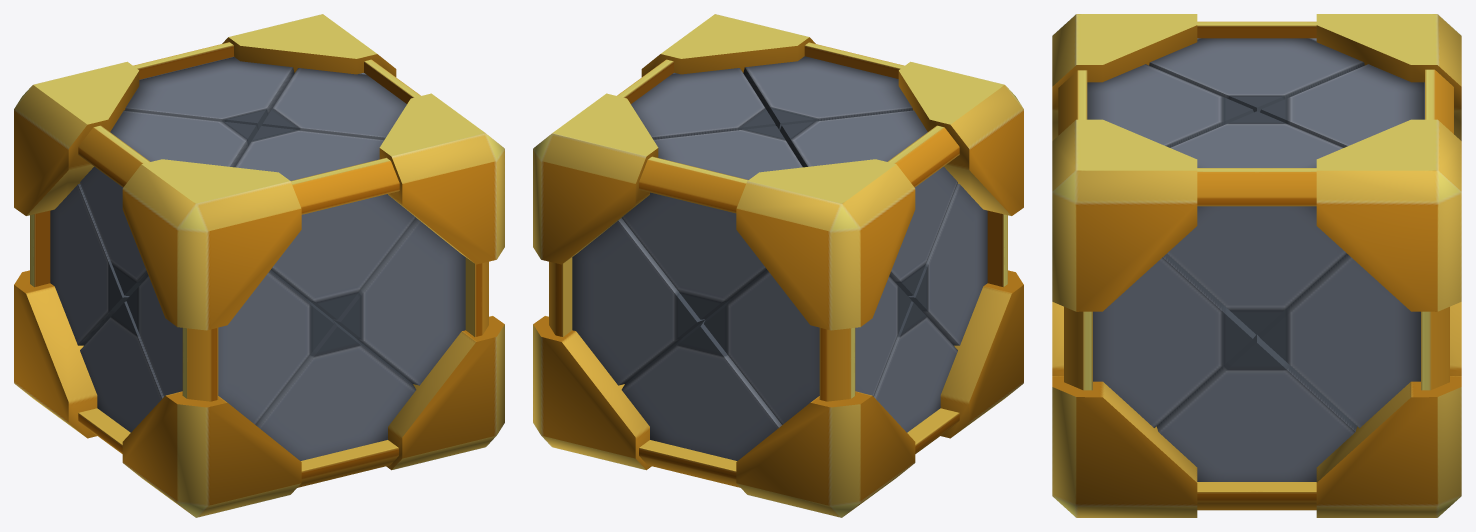
File: baoxiang.FBX
3 views of the same model, side by side, from view 1: azimuth 30°, elevation 25°; view 2: azimuth 150°, elevation 25°; view 3: azimuth 270°, elevation 25° (orthographic). The views are drawn at different scales.
Parts seen in each view (by area): view 1: baoxiang; view 2: baoxiang; view 3: baoxiang.
Boxes of the visible parts, x1=… form: baoxiang: x1=14, y1=14, x2=504, y2=517; baoxiang: x1=533, y1=14, x2=1023, y2=517; baoxiang: x1=1052, y1=14, x2=1461, y2=517.
Bounding box in the file's own units: 144 × 132 × 141.
